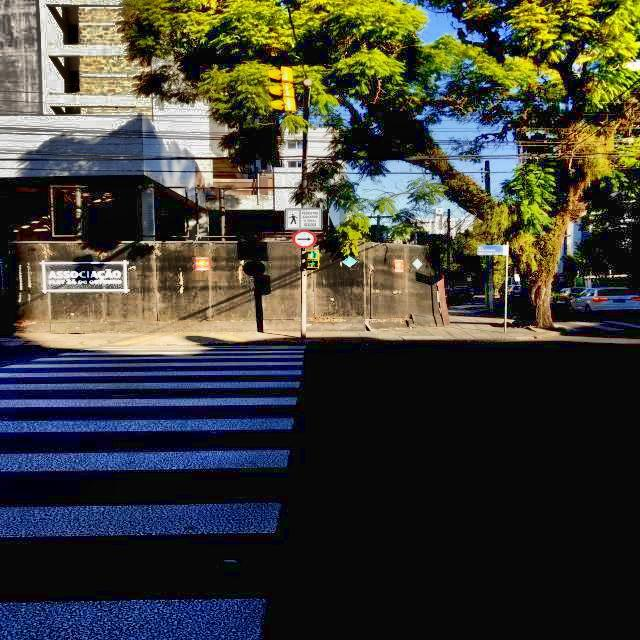faixa de pedestre: (6, 336, 301, 634)
